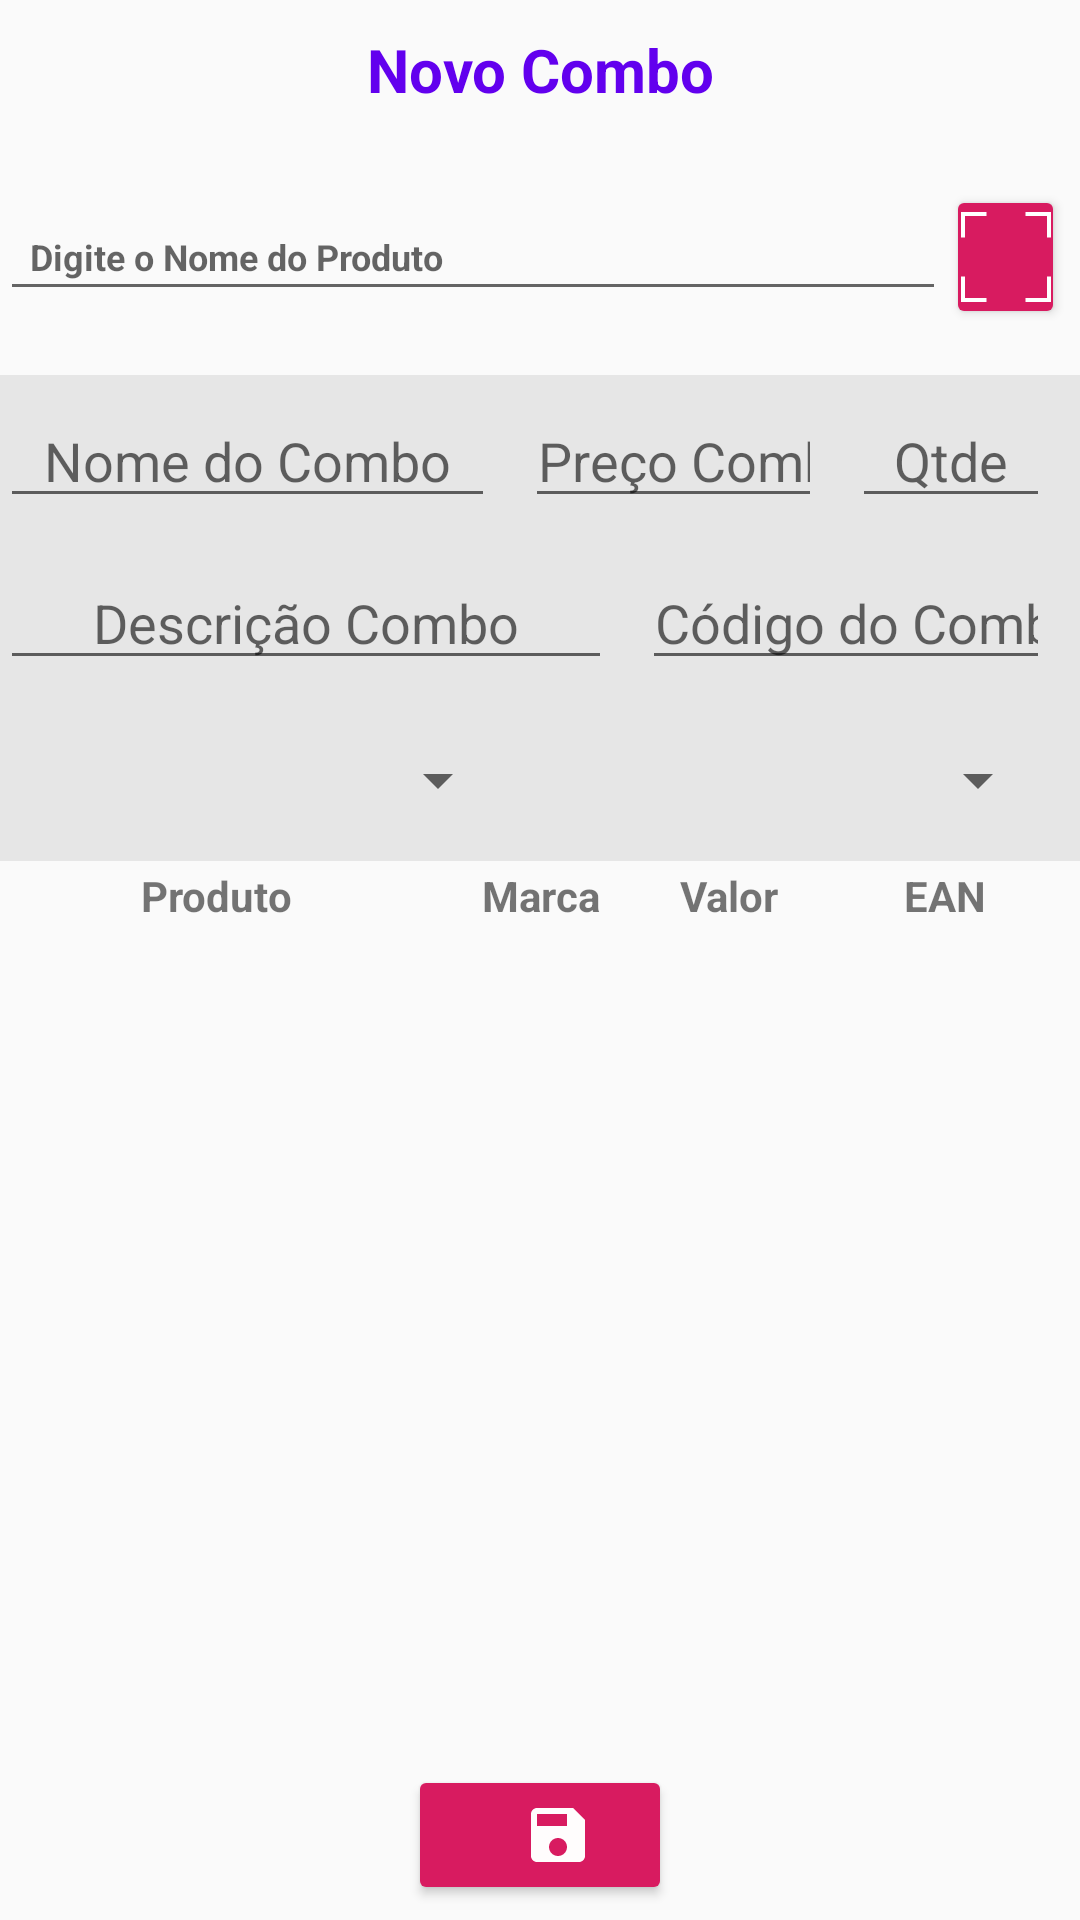

Where to tap for icons on this 1080px×1920px app screen, as (x,y):
qr code reader: (1006,257)
save: (540,1838)
